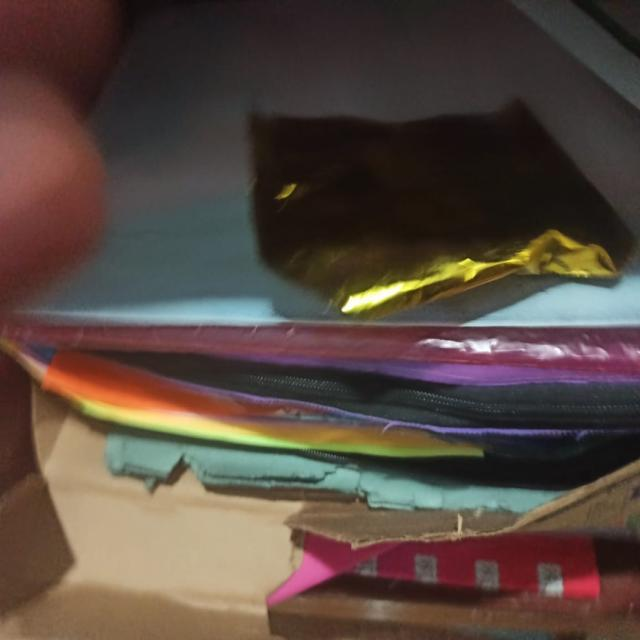Harischandra Coffee: (212, 116, 640, 360)
